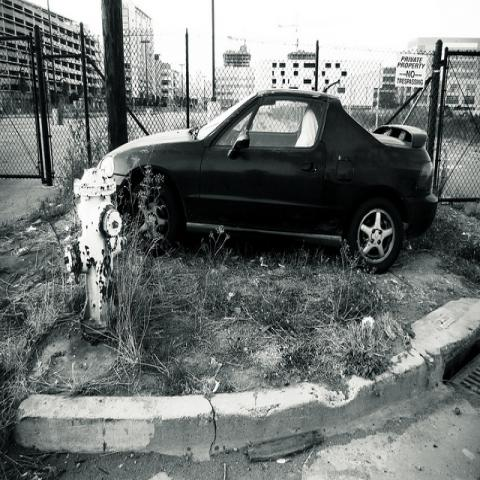car: (97, 90, 438, 276)
